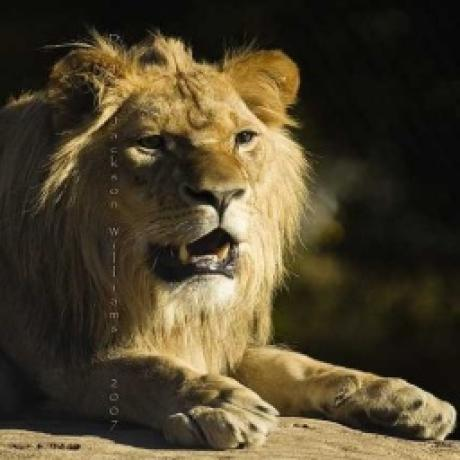Lion: (0, 34, 460, 452)
